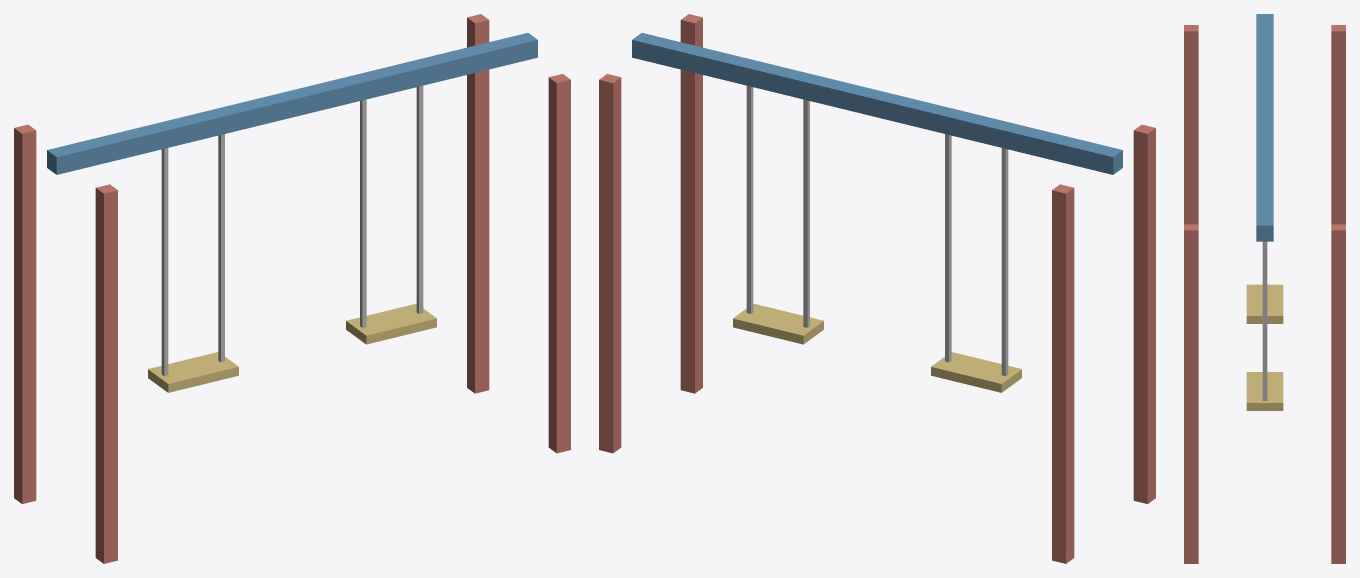
File: swing.glb
The picture shows the model from 3 angles, left to right: view 1: azimuth 30°, elevation 25°; view 2: azimuth 150°, elevation 25°; view 3: azimuth 270°, elevation 25°; orthographic projection. The views are drawn at different scales.
Parts seen in each view (by area): view 1: Swing; view 2: Swing; view 3: Swing.
Boxes of the visible parts, box(x1,y1,x2,y2) form: Swing: box(14, 14, 570, 563); Swing: box(599, 14, 1155, 563); Swing: box(1184, 14, 1345, 563).
Size of the model in its own units: 3.4 by 2.56 by 1.1.
